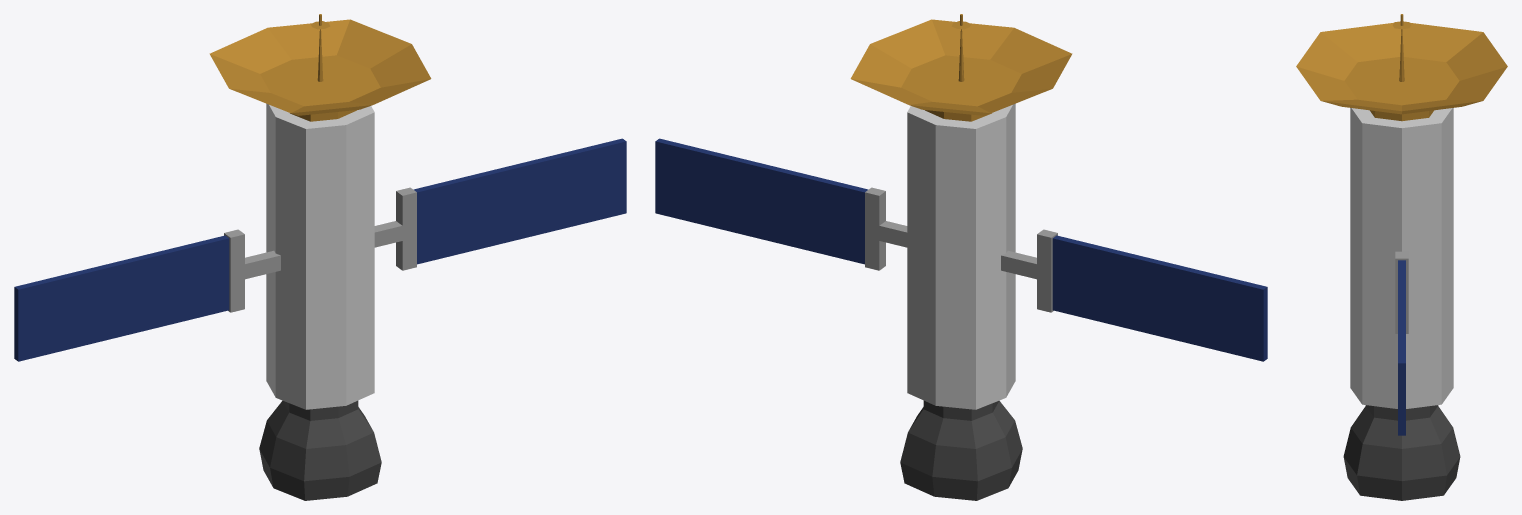
The model's file is Satellite1.fbx.
3 views of the same model, side by side, from view 1: azimuth 30°, elevation 25°; view 2: azimuth 150°, elevation 25°; view 3: azimuth 270°, elevation 25° (orthographic).
Visible parts, largest first — view 1: Cube, Cube.001, Cube.004; view 2: Cube, Cube.001, Cube.004; view 3: Cube, Cube.001, Cube.004.
Boxes of the visible parts, box(x1,y1,x2,y2) form: Cube: box(209, 14, 431, 500); Cube.001: box(14, 138, 626, 361); Cube.004: box(224, 187, 416, 312); Cube: box(850, 14, 1072, 500); Cube.001: box(655, 138, 1267, 361); Cube.004: box(865, 187, 1057, 312); Cube: box(1296, 14, 1507, 500); Cube.001: box(1398, 260, 1405, 435); Cube.004: box(1395, 251, 1408, 333).
Bounding box in the file's own units: 1768 × 1284 × 532.
